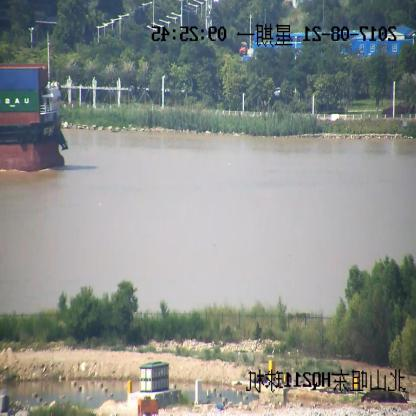Container Ship: (0, 65, 67, 171)
